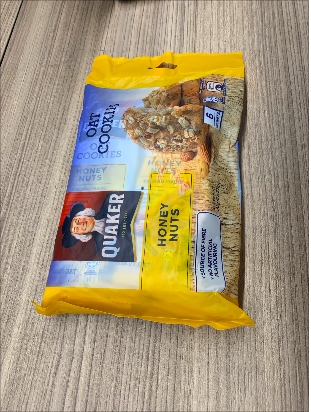Cookies_100-199g: (82, 90, 226, 294)
